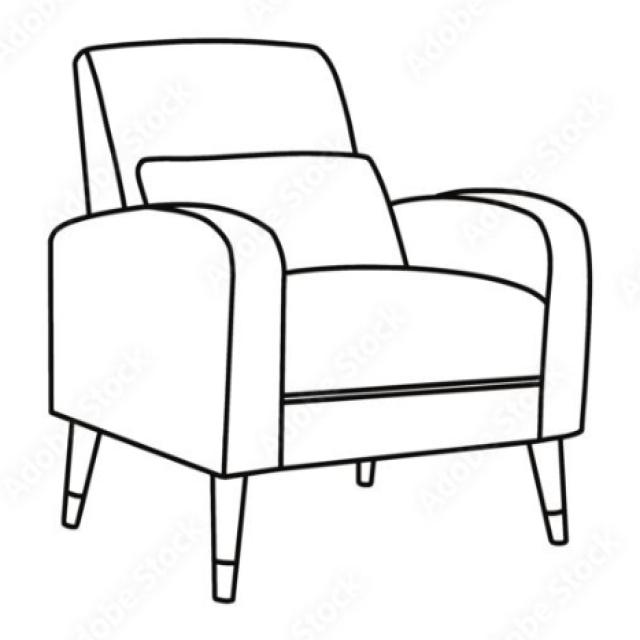Armrest: (45, 199, 289, 481), (384, 185, 594, 442)
Backrest: (69, 35, 409, 274)
Leg_Structure: (58, 414, 584, 606)
Seat: (278, 263, 551, 470)
